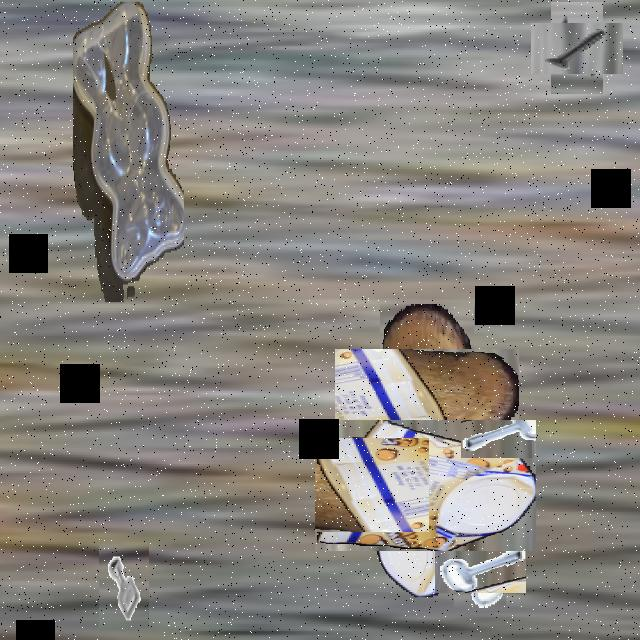metal: (541, 12, 613, 84), (444, 531, 516, 603), (99, 542, 149, 631)
plastic: (73, 2, 183, 300), (338, 397, 514, 574)
wood: (357, 327, 497, 466)
